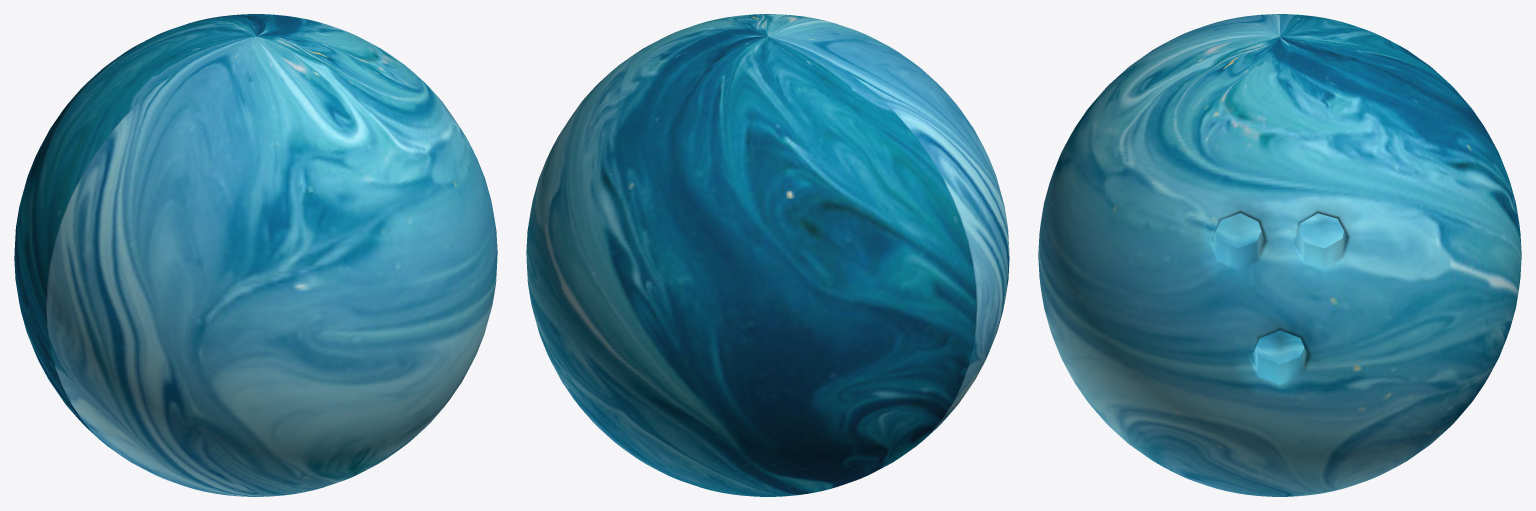
Rendered from bowlingball.glb.
The picture shows the model from 3 angles, left to right: view 1: azimuth 30°, elevation 25°; view 2: azimuth 150°, elevation 25°; view 3: azimuth 270°, elevation 25°; orthographic projection.
Parts seen in each view (by area): view 1: Sphere_0; view 2: Sphere_0; view 3: Sphere_0.
Part boxes in pixels (<box>): Sphere_0: <box>14,14,497,496</box>; Sphere_0: <box>526,14,1009,496</box>; Sphere_0: <box>1038,14,1521,496</box>.
Size of the model in its own units: 1.99 by 2 by 2.
1 material, 1 textured.
